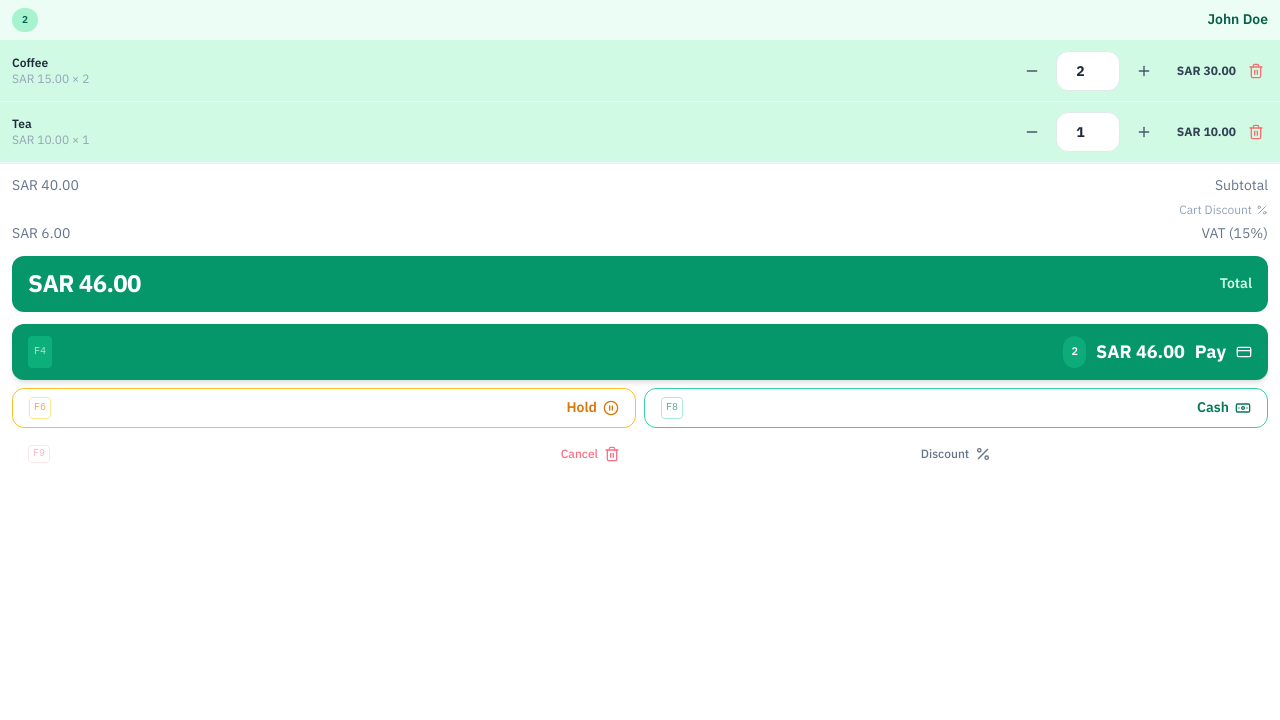
it: Action grid — Discount button › reveals the discount input when Discount button is clicked
Click the button "Discount": [956, 454] box left=644, top=436, right=1268, bottom=472
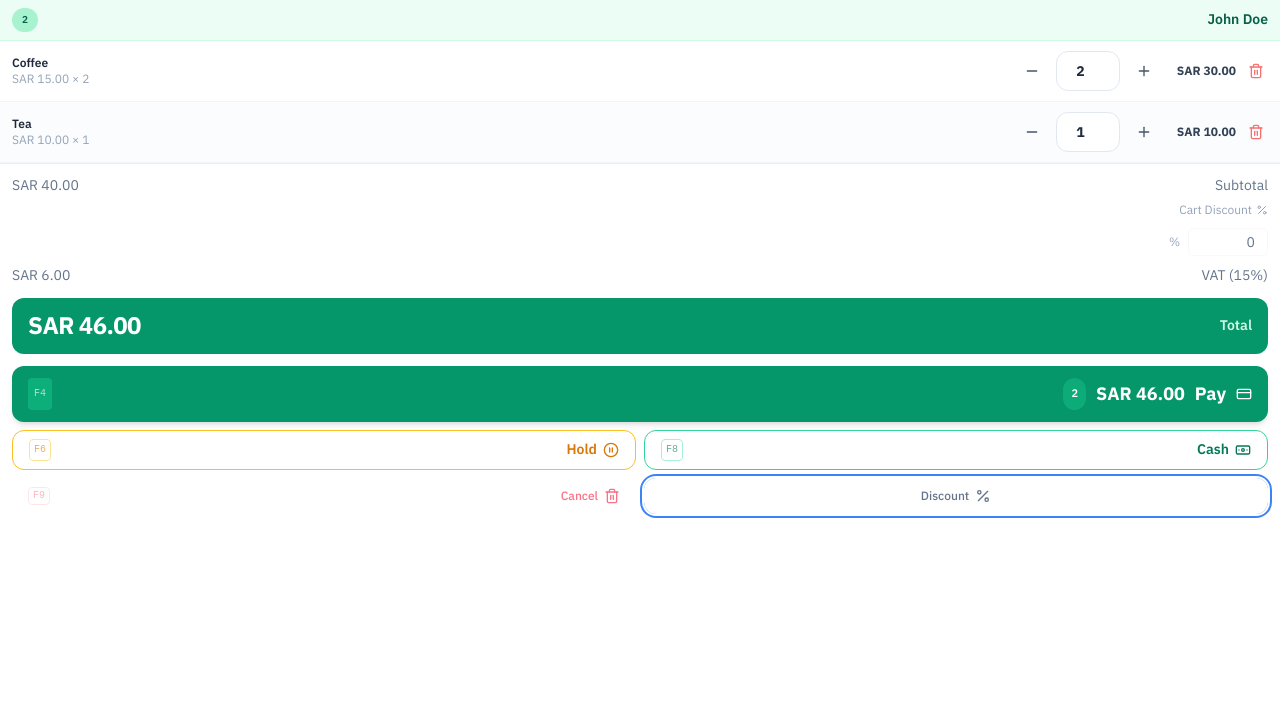
Check: the number field with placeholder "0" is shown, box left=1188, top=228, right=1268, bottom=256
